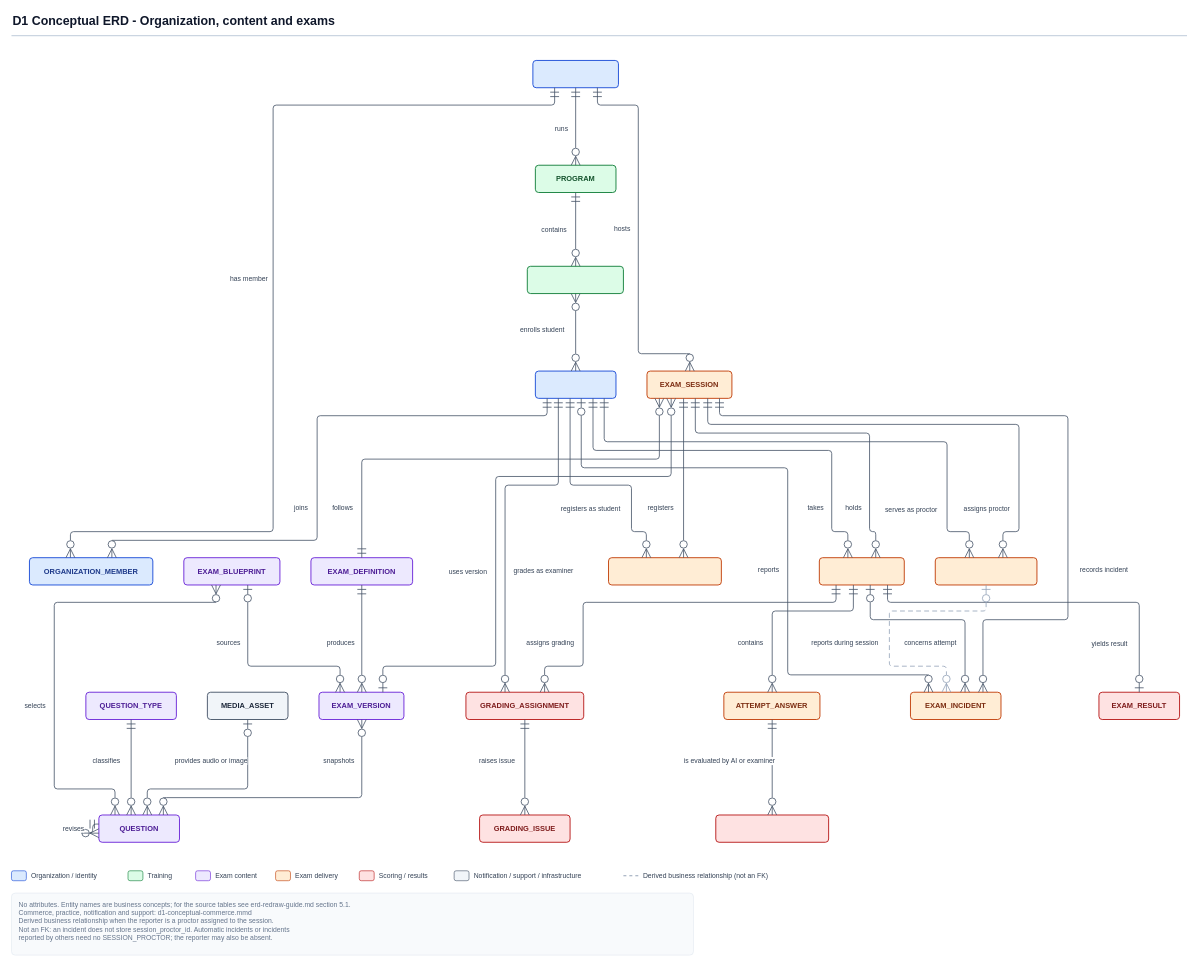
Some shapes in this 1198 by 966 pixel diagram are drawn without their labels. Each missing label, with the centre of its shape:
ANSWER_EVALUATION: the point at 772,828
EXAM_ATTEMPT: the point at 861,571
EXAM_REGISTRATION: the point at 665,571
ORGANIZATION: the point at 575,74
SESSION_PROCTOR: the point at 986,571
TRAINING_CLASS: the point at 575,280
USER: the point at 575,384
